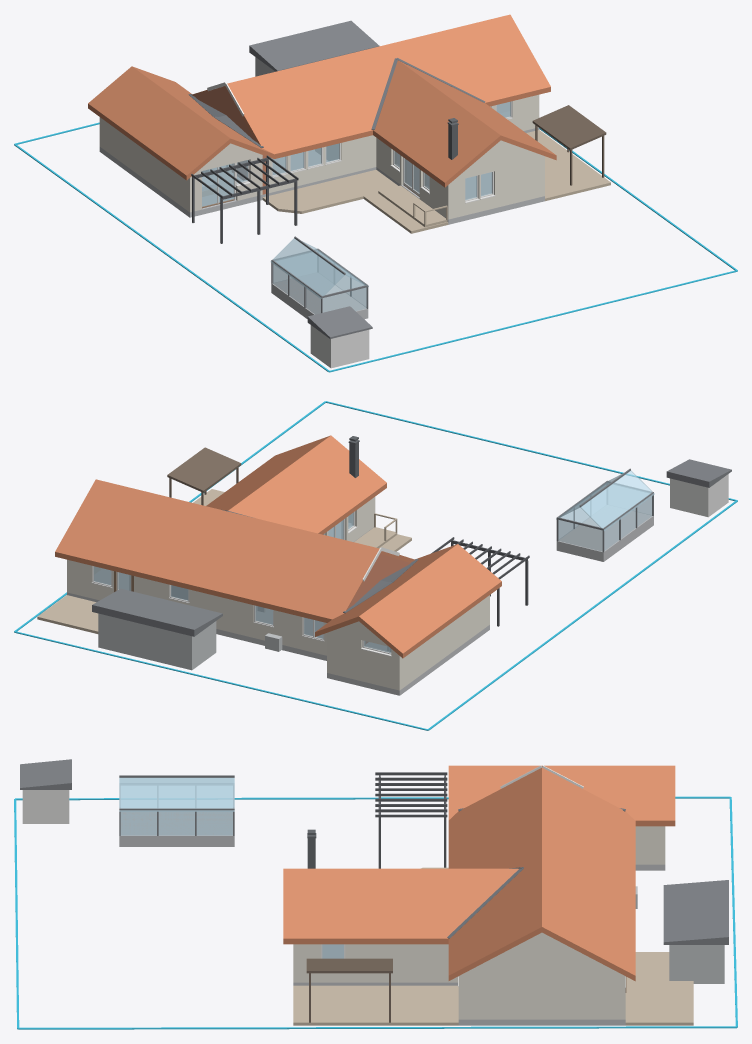
File: Barkgatan3_ext_west_30deg.glb
3 renders of one model, top to bottom at view 1: azimuth 30°, elevation 25°; view 2: azimuth 150°, elevation 25°; view 3: azimuth 270°, elevation 25°, orthographic. The views are drawn at different scales.
Visible parts, largest first — view 1: ROOF, WALLS_EXT, GLASS, DECK_WOOD, SLAB, CONTEXT_DARK, EXT_WALLS, LOT_LINE, PERGOLA, CANOPY, CONTEXT_WALL, WINDOW_FRAME (+2 smaller); view 2: ROOF, GLASS, EXT_WALLS, WALLS_EXT, CONTEXT_DARK, SLAB, CONTEXT_GREY, LOT_LINE, DECK_WOOD, CANOPY, CONTEXT_WALL, PERGOLA (+3 smaller); view 3: ROOF, WALLS_EXT, DECK_WOOD, GLASS, CONTEXT_DARK, SLAB, LOT_LINE, PERGOLA, CONTEXT_GREY, CONTEXT_WALL, CANOPY, EXT_WALLS.
Boxes of the visible parts, x1,y1,x2,y2 form: ROOF: [88, 14, 556, 187]; WALLS_EXT: [268, 94, 544, 219]; GLASS: [202, 101, 510, 314]; DECK_WOOD: [262, 130, 610, 233]; SLAB: [99, 111, 544, 319]; CONTEXT_DARK: [249, 20, 379, 338]; EXT_WALLS: [99, 117, 262, 212]; LOT_LINE: [14, 122, 737, 372]; PERGOLA: [191, 155, 298, 243]; CANOPY: [532, 105, 606, 185]; CONTEXT_WALL: [310, 325, 369, 368]; WINDOW_FRAME: [217, 101, 512, 203]; ROOF: [55, 435, 501, 658]; GLASS: [93, 470, 654, 653]; EXT_WALLS: [327, 595, 489, 690]; WALLS_EXT: [67, 497, 375, 655]; CONTEXT_DARK: [92, 459, 731, 636]; SLAB: [67, 506, 653, 695]; CONTEXT_GREY: [98, 613, 282, 670]; LOT_LINE: [14, 401, 737, 730]; DECK_WOOD: [37, 489, 411, 633]; CANOPY: [167, 447, 241, 505]; CONTEXT_WALL: [670, 474, 728, 517]; PERGOLA: [431, 537, 529, 626]; ROOF: [283, 765, 675, 981]; WALLS_EXT: [293, 932, 625, 1019]; DECK_WOOD: [293, 867, 693, 1025]; GLASS: [119, 777, 343, 958]; CONTEXT_DARK: [20, 759, 728, 944]; SLAB: [119, 812, 665, 1025]; LOT_LINE: [14, 796, 737, 1029]; PERGOLA: [375, 772, 447, 868]; CONTEXT_GREY: [635, 886, 724, 983]; CONTEXT_WALL: [22, 790, 69, 823]; CANOPY: [306, 958, 392, 1022]; EXT_WALLS: [635, 826, 665, 864].
Bounding box in the file's own units: 24.79 × 5.49 × 32.64.
